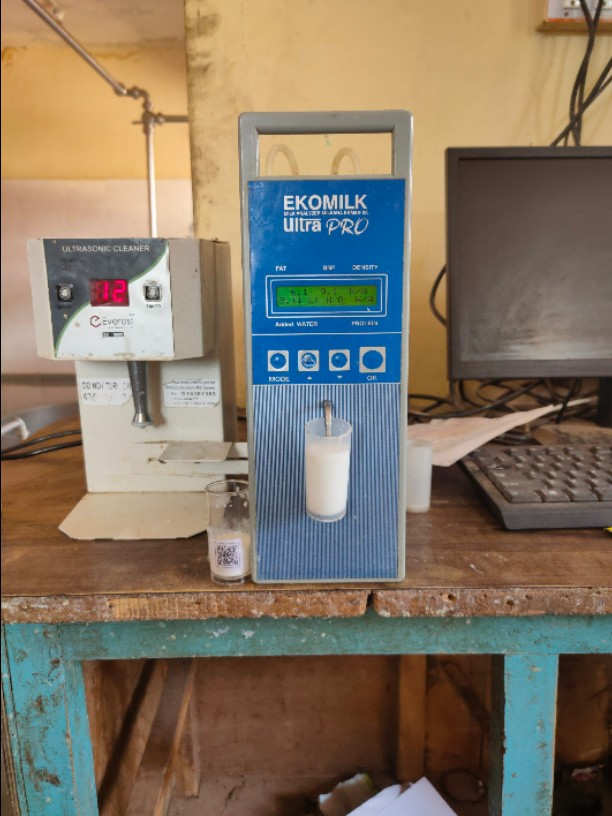lcd: (272, 279, 386, 320)
qr: (207, 536, 247, 578)
